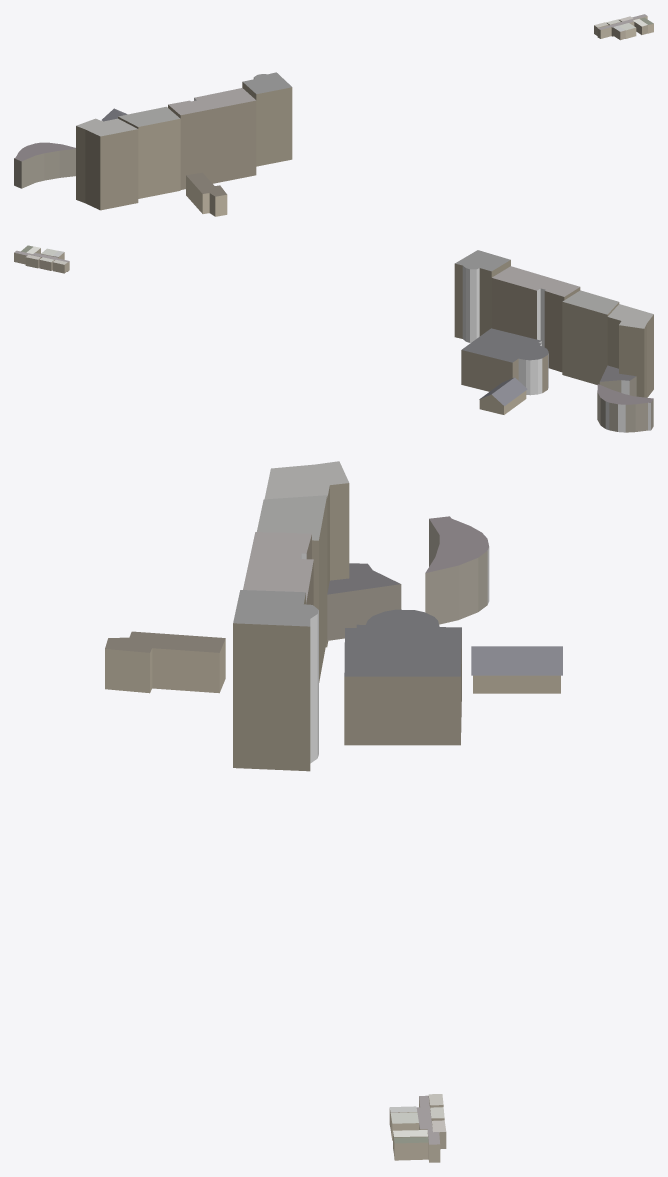
3 renders of one model, top to bottom at view 1: azimuth 30°, elevation 25°; view 2: azimuth 150°, elevation 25°; view 3: azimuth 270°, elevation 25°, orthographic. The views are drawn at different scales.
Visible parts, largest first — view 1: tuile; view 2: tuile; view 3: tuile.
Part boxes in pixels (x1=…): tuile: x1=14, y1=14, x2=653, y2=216; tuile: x1=14, y1=245, x2=653, y2=432; tuile: x1=105, y1=461, x2=562, y2=1162.
Bounding box in the file's own units: 261 × 33.91 × 82.24.
